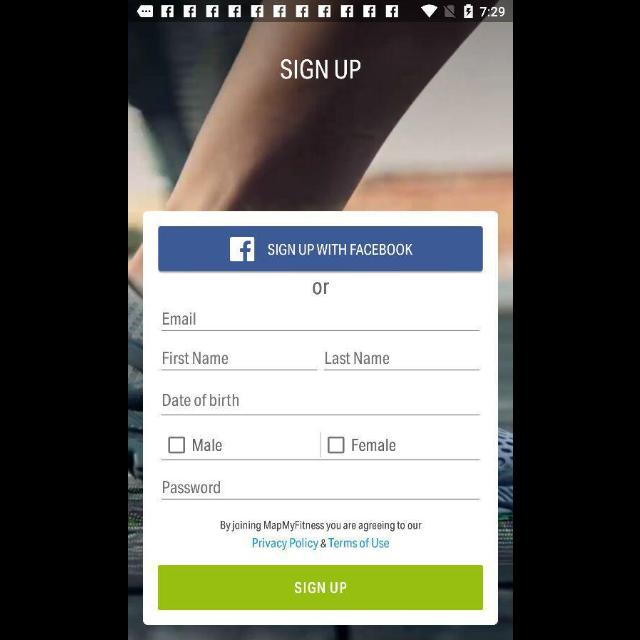backgroundimage: (128, 22, 512, 640)
checkbox: (326, 436, 344, 454), (168, 436, 185, 454)
input: (161, 394, 479, 416), (161, 480, 479, 500), (161, 313, 479, 332), (161, 352, 317, 371), (323, 352, 479, 371)
text: (220, 520, 422, 550), (280, 60, 360, 80), (162, 394, 238, 406), (163, 352, 227, 364), (325, 352, 389, 364), (162, 482, 220, 494), (351, 438, 395, 452), (162, 312, 195, 326), (192, 438, 222, 452), (312, 281, 328, 295)
textbutton: (158, 226, 482, 272), (157, 566, 483, 610), (252, 538, 318, 550), (328, 538, 388, 548)
uppertaskbar: (128, 1, 512, 23)
